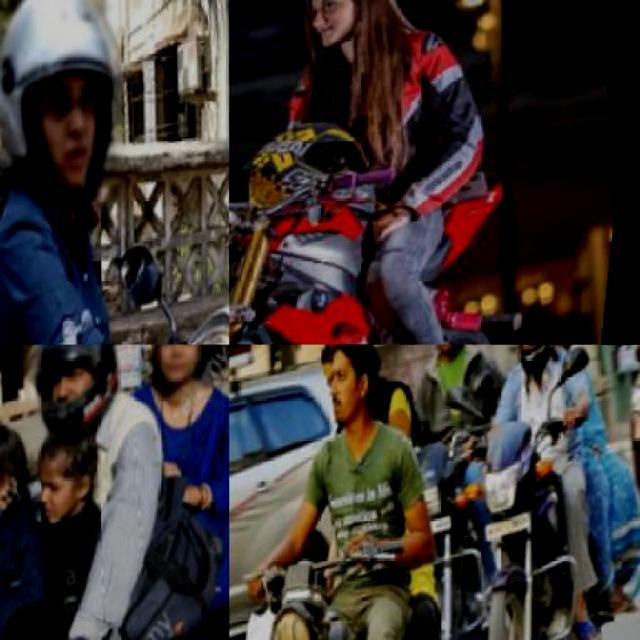With Helmet: (0, 0, 154, 232), (9, 344, 140, 450), (496, 344, 572, 384), (425, 345, 480, 366)
Without Helmet: (318, 345, 392, 440), (140, 345, 226, 412), (292, 0, 405, 37), (542, 345, 586, 360)
